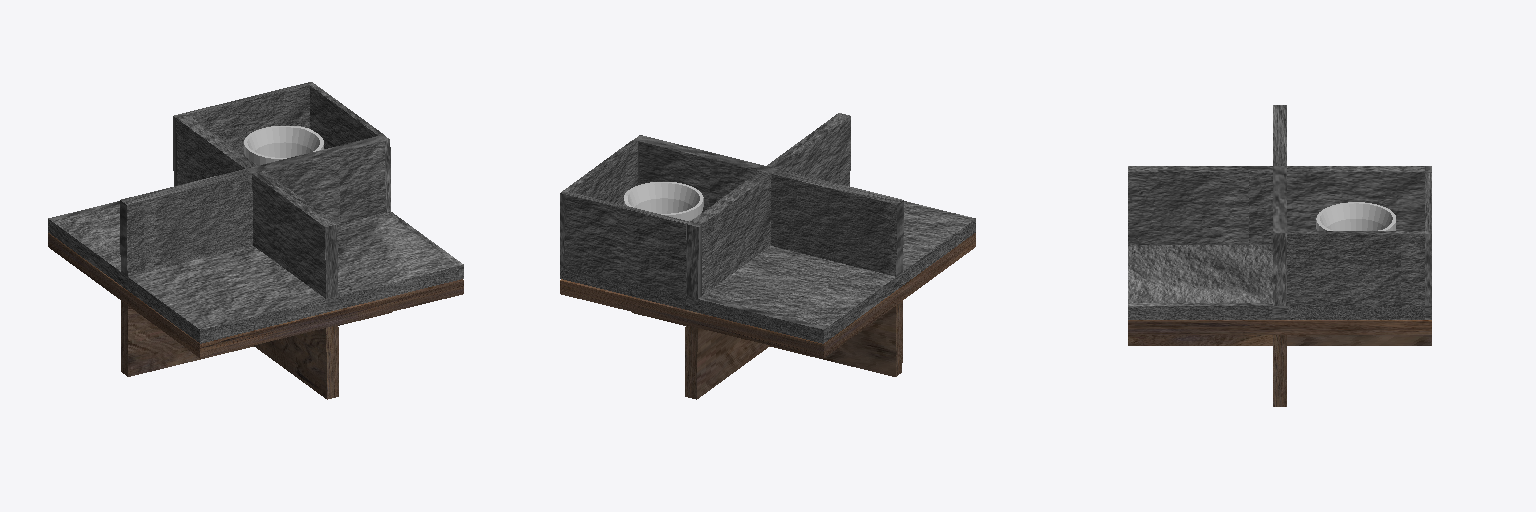
3 views of the same model, side by side, from view 1: azimuth 30°, elevation 25°; view 2: azimuth 150°, elevation 25°; view 3: azimuth 270°, elevation 25° (orthographic).
Visible parts, largest first — view 1: Cube.007; view 2: Cube.007; view 3: Cube.007.
Part boxes in pixels (left/top/right/bottom): Cube.007: left=48, top=82, right=463, bottom=399; Cube.007: left=560, top=113, right=975, bottom=399; Cube.007: left=1128, top=105, right=1431, bottom=406.
Size of the model in its own units: 2.01 by 1.26 by 2.
Materials: 3 (2 with a texture image).